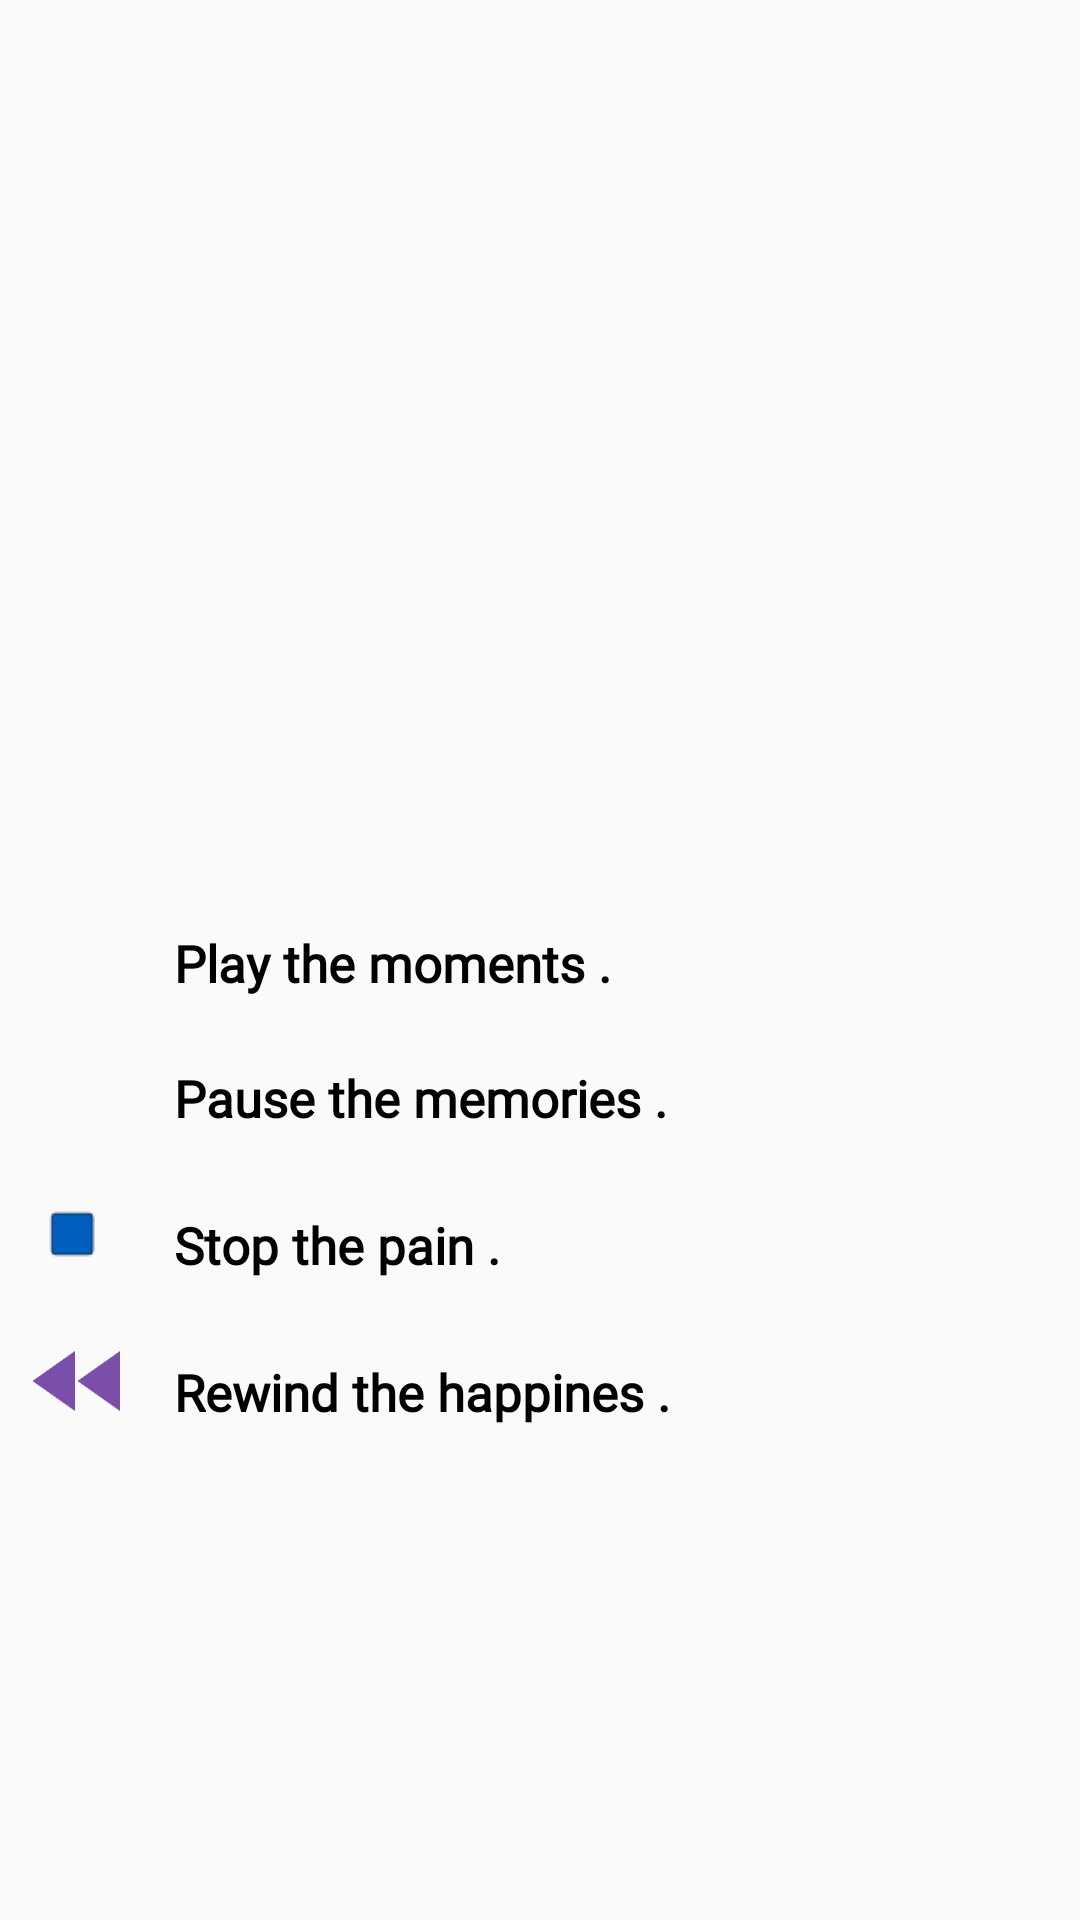

Where icons sit on this 1080x1920 app screen, as (x1, y1, x2, y2):
plashrewind: (33, 1351, 120, 1411)
splasstop: (50, 1211, 95, 1257)
